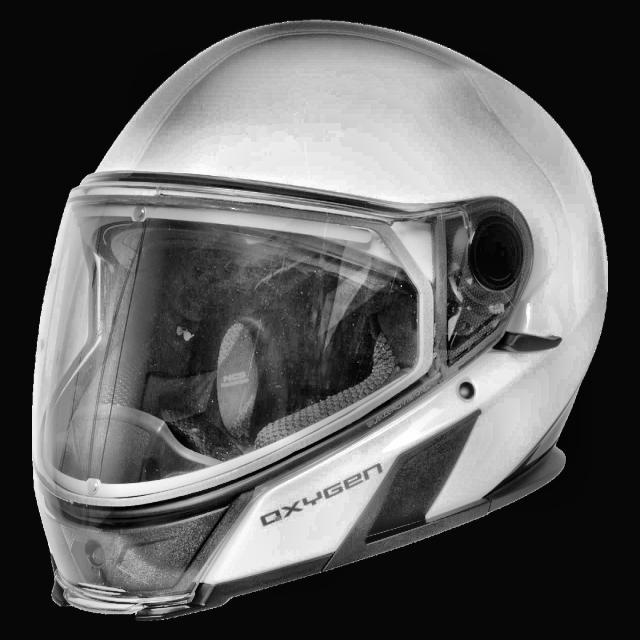Helmet: (29, 14, 606, 618)
